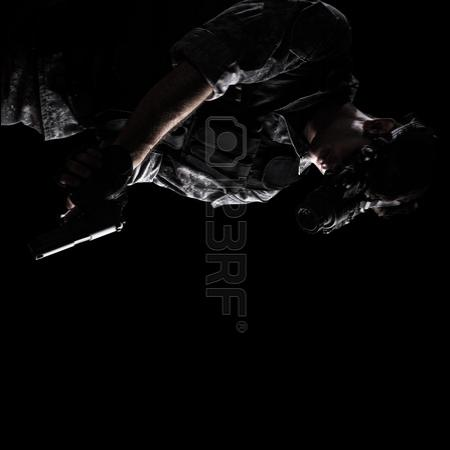Pistol: (29, 169, 137, 276)
